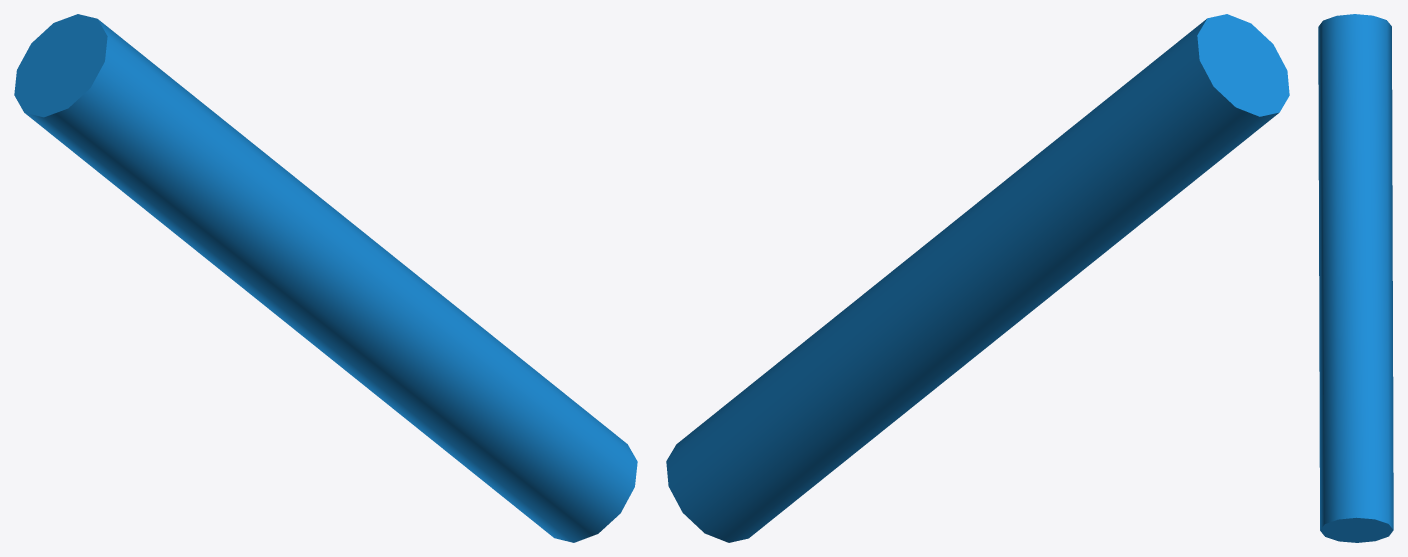
The model's file is front_right_arm.obj.
3 views of the same model, side by side, from view 1: azimuth 30°, elevation 25°; view 2: azimuth 150°, elevation 25°; view 3: azimuth 270°, elevation 25° (orthographic). The views are drawn at different scales.
Visible parts, largest first — view 1: front_right_arm; view 2: front_right_arm; view 3: front_right_arm.
Part boxes in pixels (box(x1,y1,x2,y2)): front_right_arm: box(14, 14, 637, 542); front_right_arm: box(666, 14, 1289, 542); front_right_arm: box(1318, 14, 1393, 542).
Bounding box in the file's own units: 0.0492 × 0.0492 × 0.0086.
